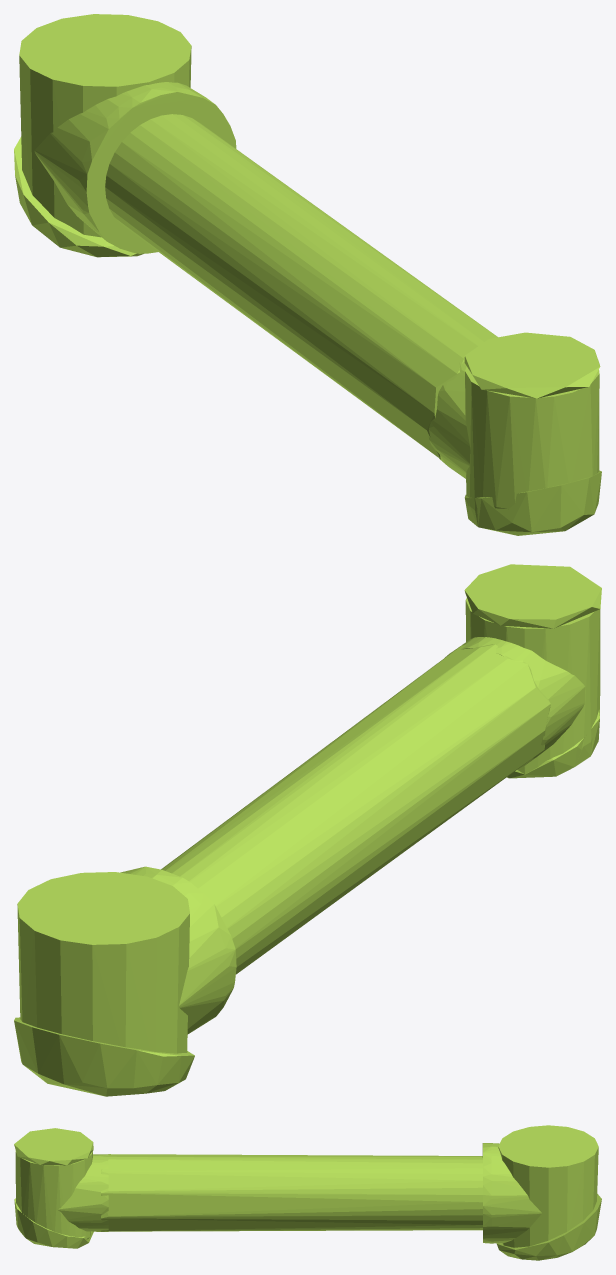
3 views of the same model, one above another, from view 1: azimuth 30°, elevation 25°; view 2: azimuth 150°, elevation 25°; view 3: azimuth 270°, elevation 25° (orthographic). The views are drawn at different scales.
Parts seen in each view (by area): view 1: Node_0000017FEC30F1B0 (×8); view 2: Node_0000017FEC30F1B0 (×8); view 3: Node_0000017FEC30F1B0 (×8).
Boxes of the visible parts, <box> form: Node_0000017FEC30F1B0 (×8): <box>14,14,601,535</box>; Node_0000017FEC30F1B0 (×8): <box>14,564,601,1096</box>; Node_0000017FEC30F1B0 (×8): <box>14,1125,601,1260</box>.
Bounding box in the file's own units: 0.1221 × 0.1305 × 0.6797.
